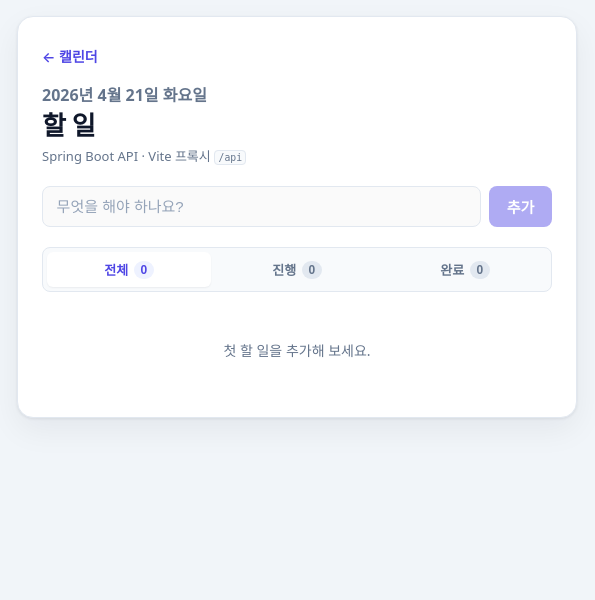
Test case: TodoDayPage › shows create error
Type "x" into the field named "새 할 일" at (262, 206), box [42, 186, 481, 227]
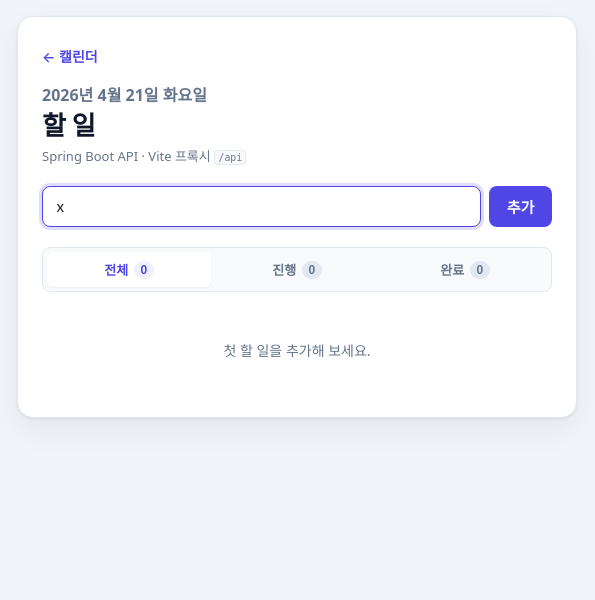
Click the button "추가" at (521, 206), box [489, 186, 552, 227]
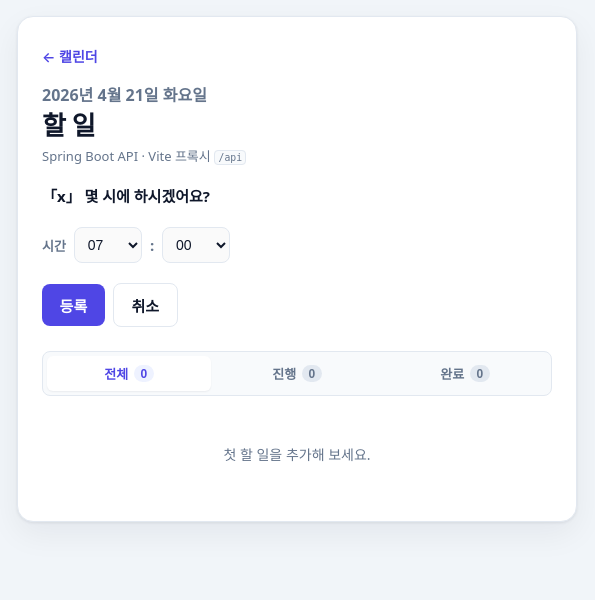
Click the button "등록" at (73, 305), box [42, 284, 105, 326]
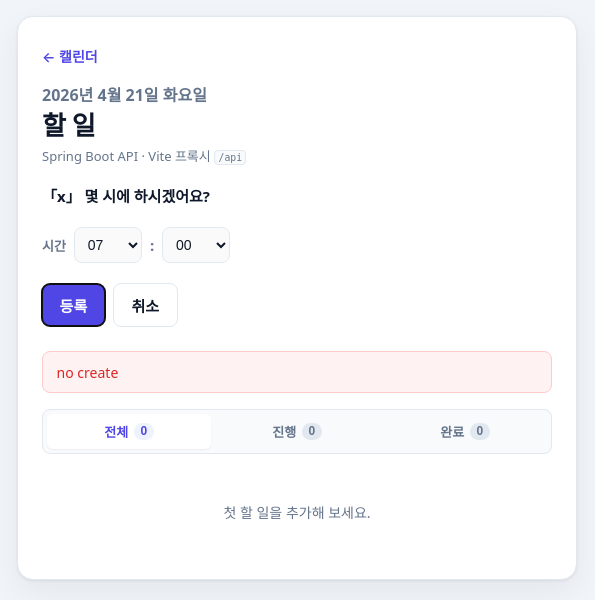
expect the message reads "no create": met, box [57, 362, 118, 382]
